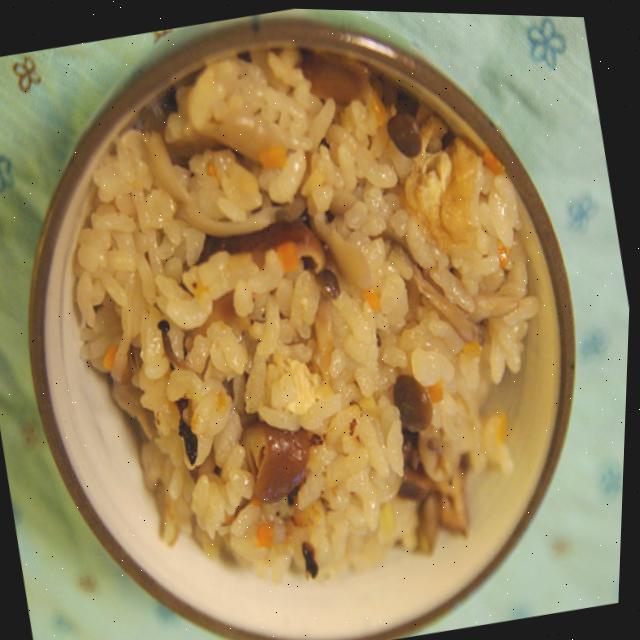米饭主食: (29, 1, 640, 598)
